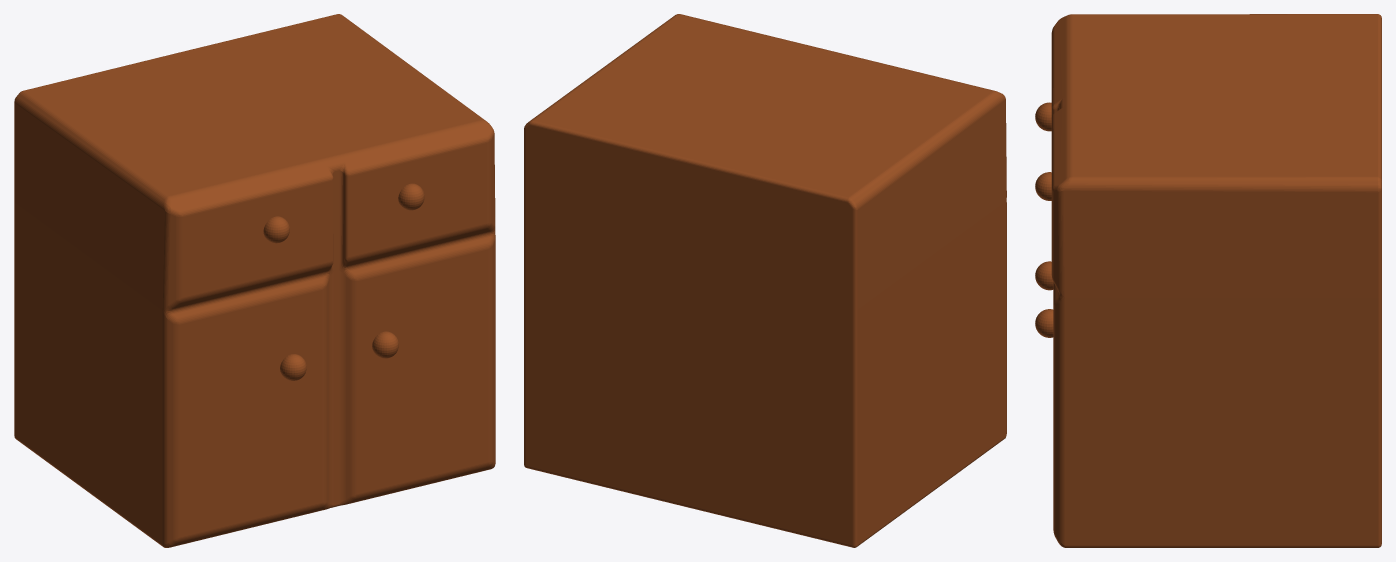
File: LowerCupboardBr.fbx
3 renders of one model, left to right at view 1: azimuth 30°, elevation 25°; view 2: azimuth 150°, elevation 25°; view 3: azimuth 270°, elevation 25°, orthographic. The views are drawn at different scales.
Visible parts, largest first — view 1: Normal Cupboard.002; view 2: Normal Cupboard.002; view 3: Normal Cupboard.002.
Part boxes in pixels (<box>): Normal Cupboard.002: <box>14,14,495,547</box>; Normal Cupboard.002: <box>524,14,1006,547</box>; Normal Cupboard.002: <box>1035,14,1381,547</box>.
Bounding box in the file's own units: 147 × 126 × 147.
